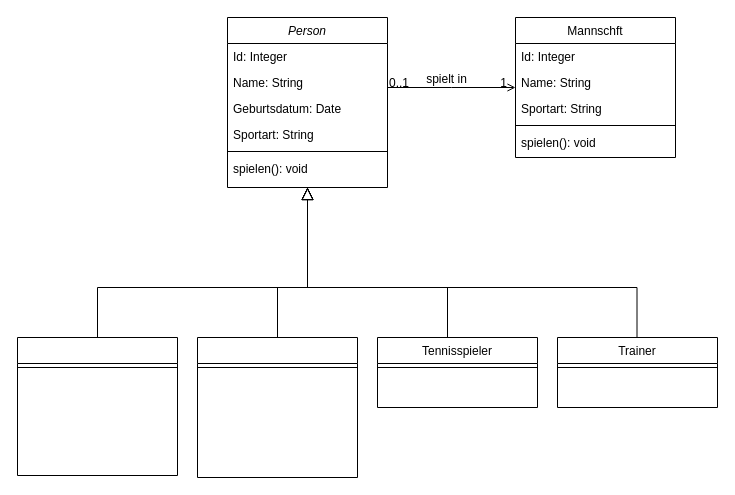
Image size: 735x495. Some labels were removed from this diagram. The centre of each missing label's shape, as x and y in pixels:
"Fußballspieler" belongs at pixel 97 406.
"Handballspieler" belongs at pixel 277 407.
